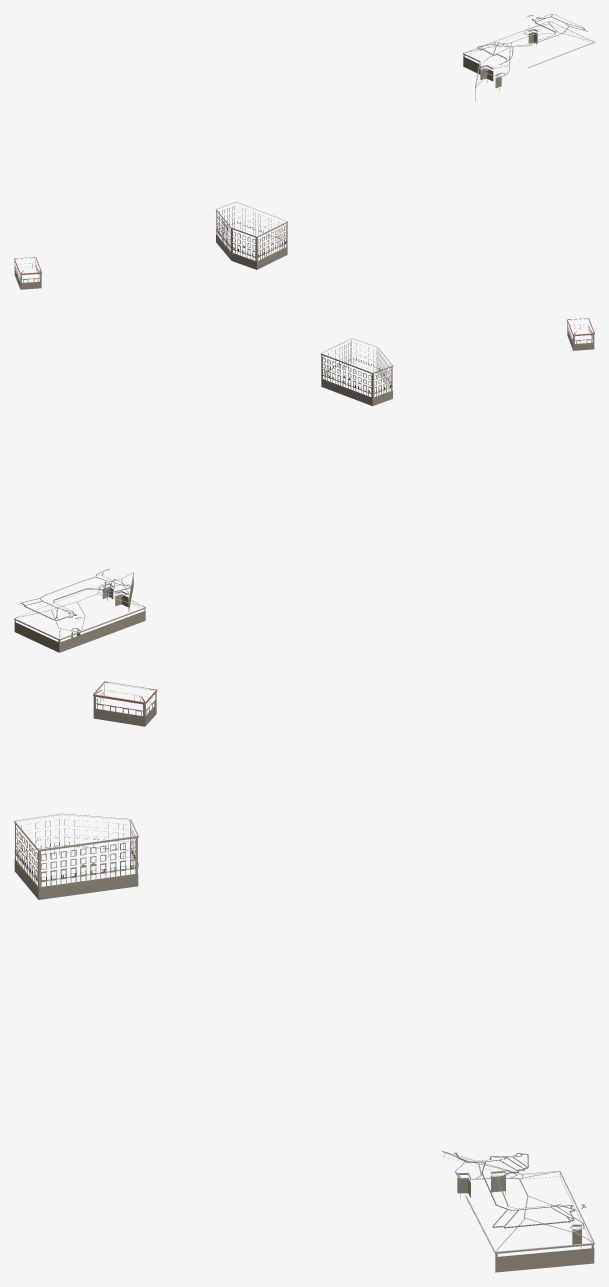
3 renders of one model, top to bottom at view 1: azimuth 30°, elevation 25°; view 2: azimuth 210°, elevation 25°; view 3: azimuth 270°, elevation 25°, orthographic. The views are drawn at different scales.
Visible parts, largest first — view 1: detail; view 2: detail; view 3: detail.
Part boxes in pixels (x1,y1,x2,y2): detail: [14, 14, 594, 289]; detail: [14, 318, 594, 652]; detail: [14, 681, 594, 1272].
Size of the model in its own units: 342 by 26.12 by 162.
